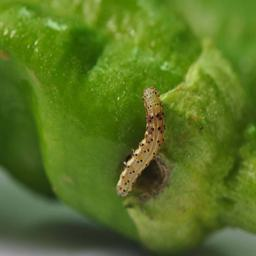Tobacco_budworm: (113, 86, 166, 198)
